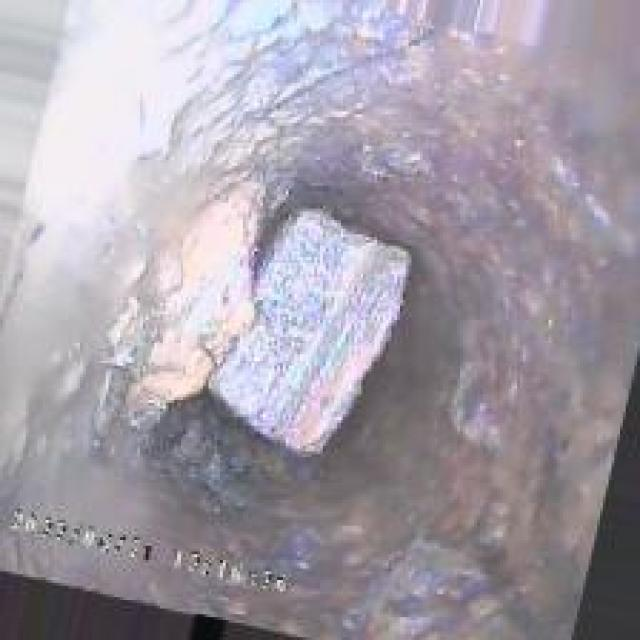stone: (200, 197, 429, 474)
